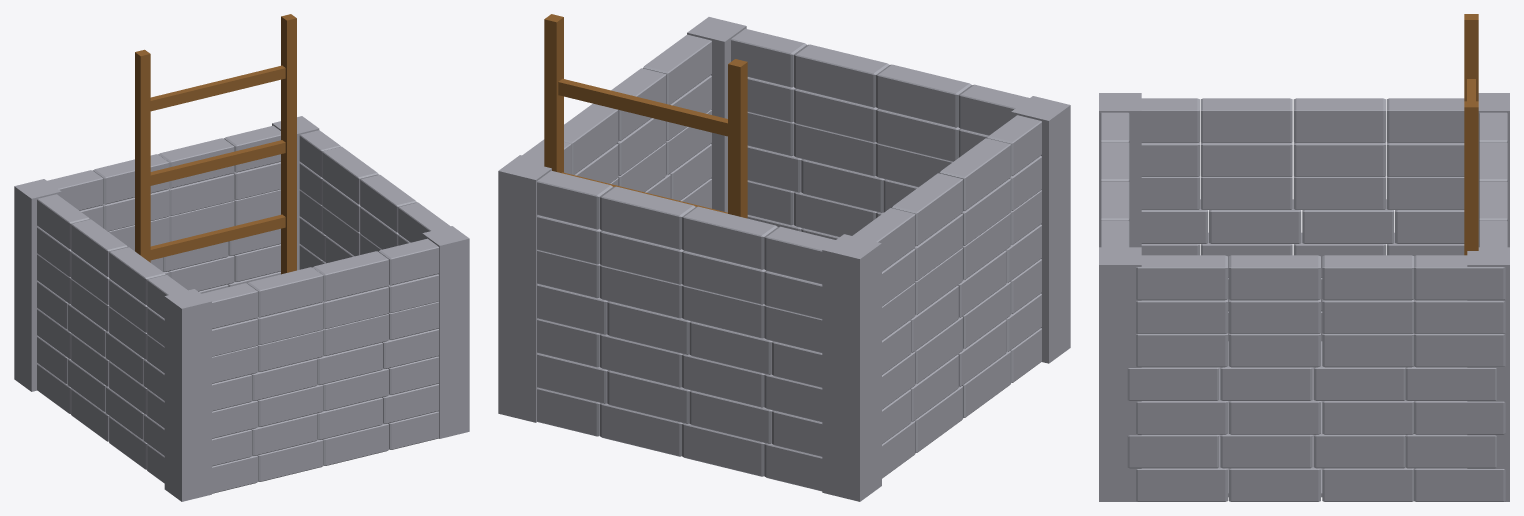
The model's file is UnderGroundHouse.glb.
3 renders of one model, left to right at view 1: azimuth 30°, elevation 25°; view 2: azimuth 150°, elevation 25°; view 3: azimuth 270°, elevation 25°, orthographic. The views are drawn at different scales.
Visible parts, largest first — view 1: Plane, Cube.005; view 2: Plane, Cube.005; view 3: Plane, Cube.005.
Part boxes in pixels (box(x1,y1,x2,y2)): Plane: box(14, 116, 469, 501); Cube.005: box(135, 14, 296, 274); Plane: box(498, 17, 1070, 501); Cube.005: box(544, 14, 747, 218); Plane: box(1099, 93, 1509, 501); Cube.005: box(1464, 14, 1478, 255).
Bounding box in the file's own units: 6.72 × 6.91 × 6.76.
